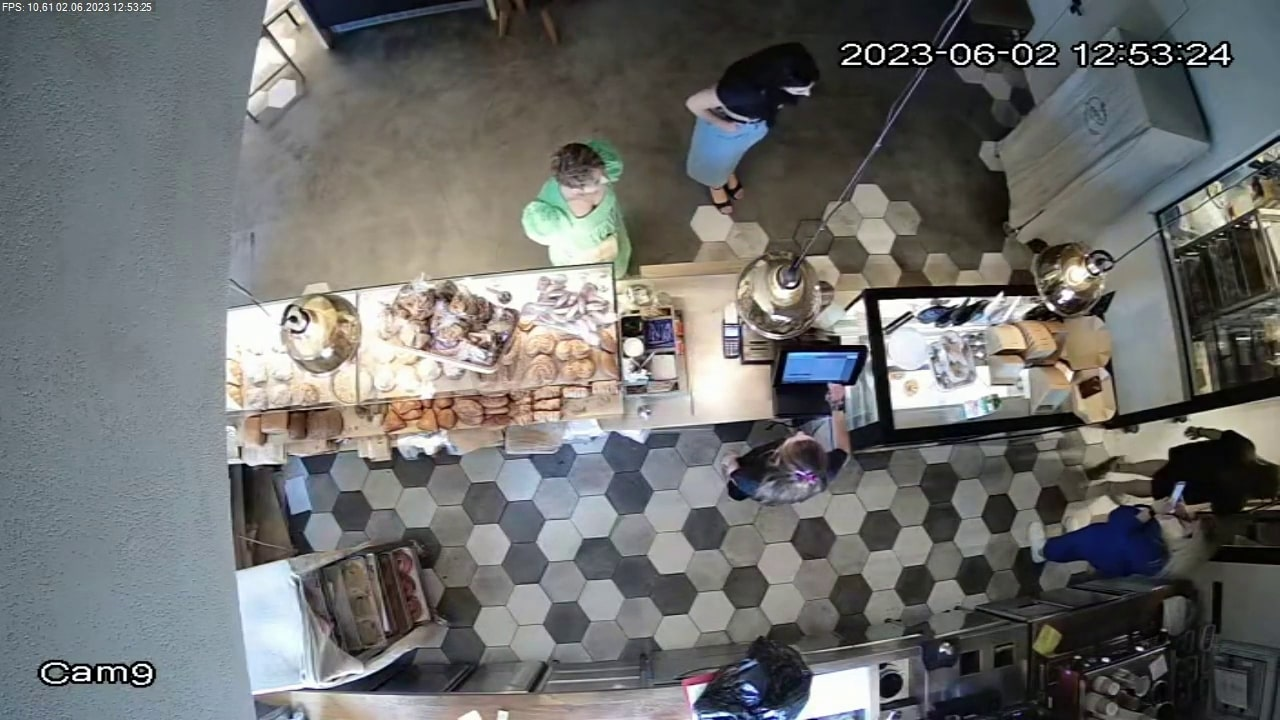barcounter: (238, 281, 1103, 451)
person: (679, 41, 822, 217), (1025, 483, 1211, 583), (510, 133, 641, 270), (721, 411, 865, 507)
